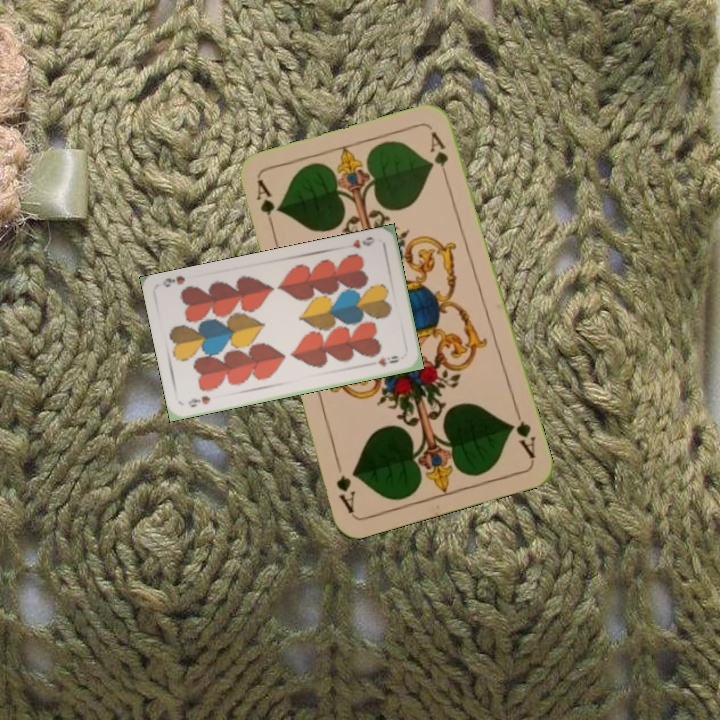GA: (505, 404, 538, 462), (252, 176, 279, 235)
H9: (184, 391, 213, 410), (349, 233, 378, 251)
